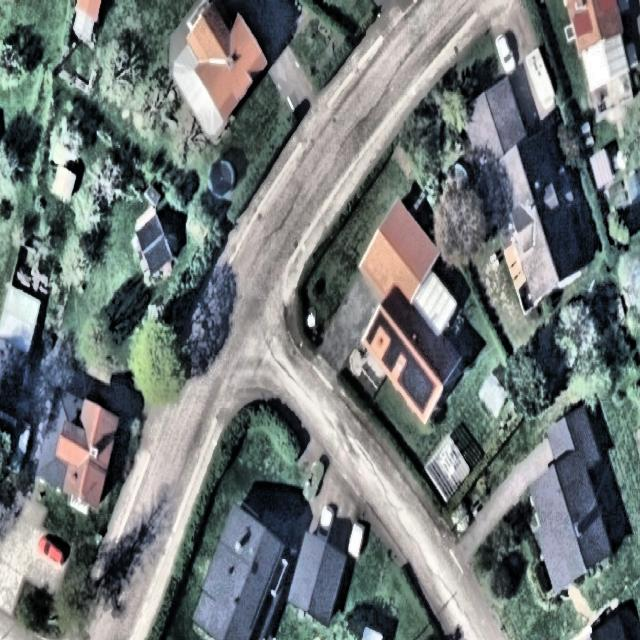roof_pv: (398, 358, 436, 418), (381, 304, 405, 348), (359, 308, 382, 345), (378, 339, 399, 374), (398, 336, 420, 366)
